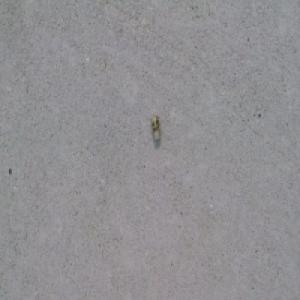BoltNutSet: (150, 116, 160, 142)
